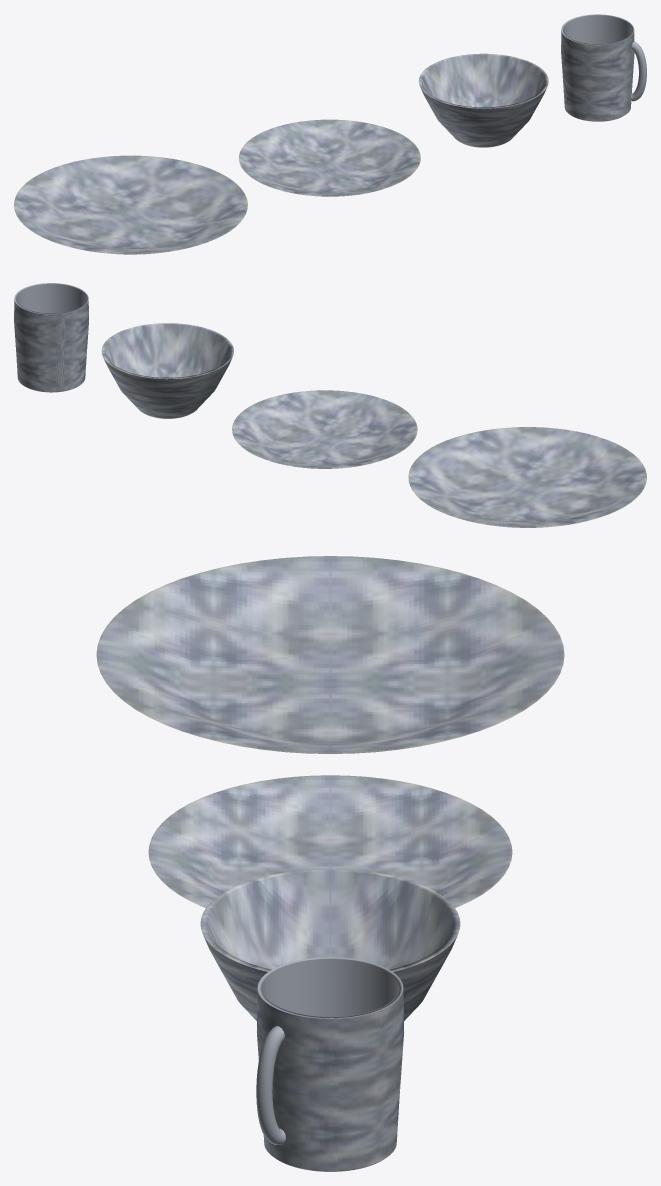
Rendered from MAR-08.glb.
3 views of the same model, one above another, from view 1: azimuth 30°, elevation 25°; view 2: azimuth 150°, elevation 25°; view 3: azimuth 270°, elevation 25° (orthographic). The views are drawn at different scales.
Size of the model in its own units: 0.7997 by 0.1 by 0.27.
9 materials, 7 textured.
